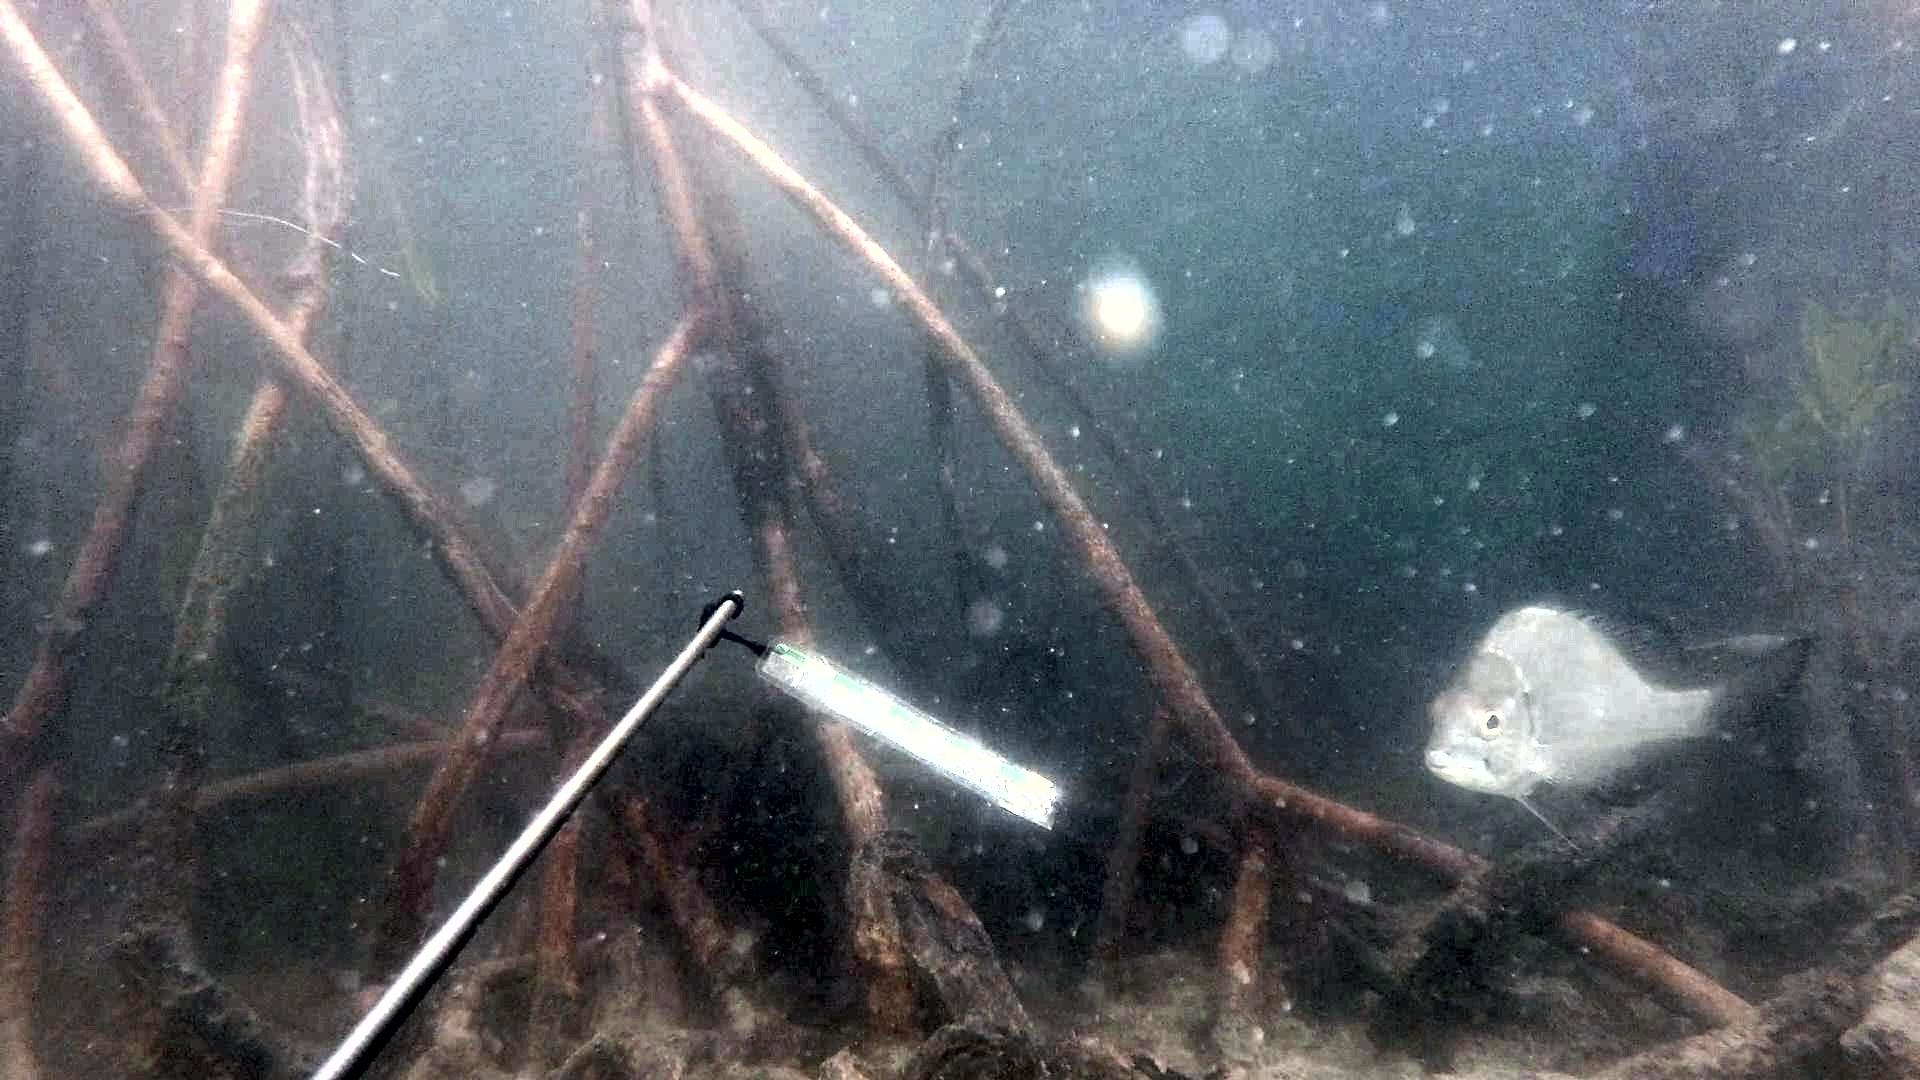acanthopagrus palmaris: (1416, 588, 1824, 855)
